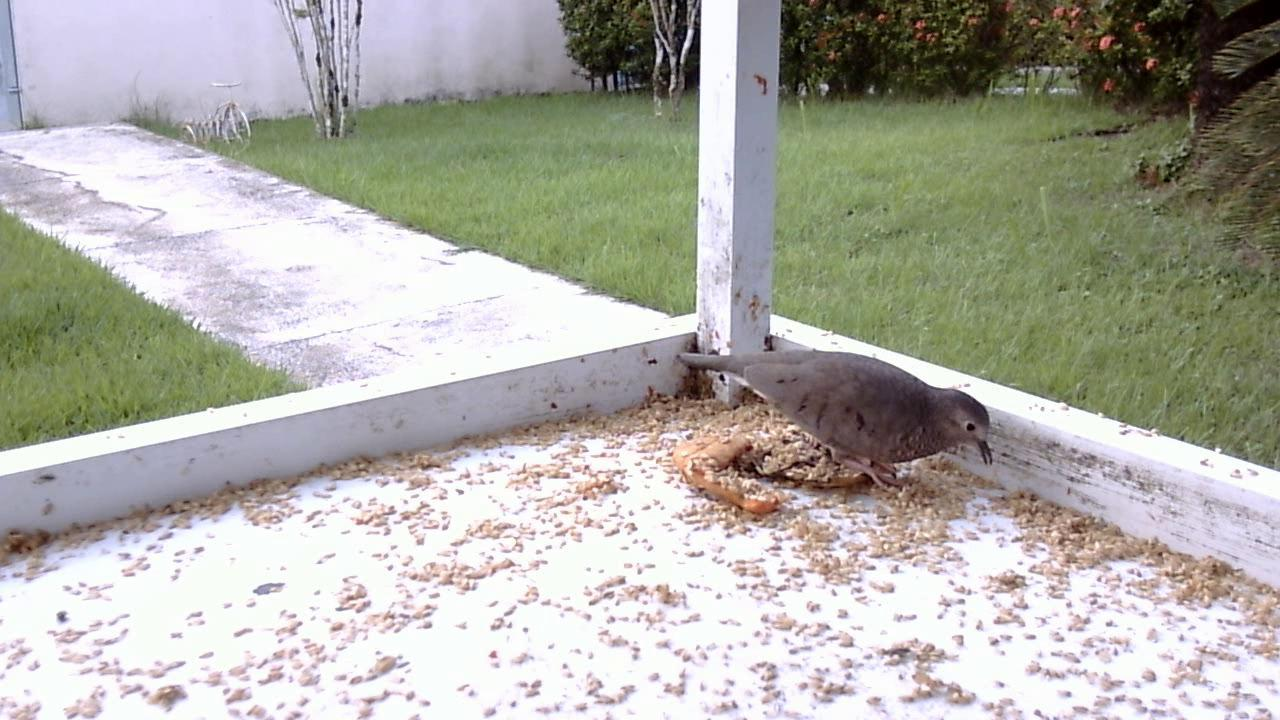rolinha: (687, 343, 999, 496)
